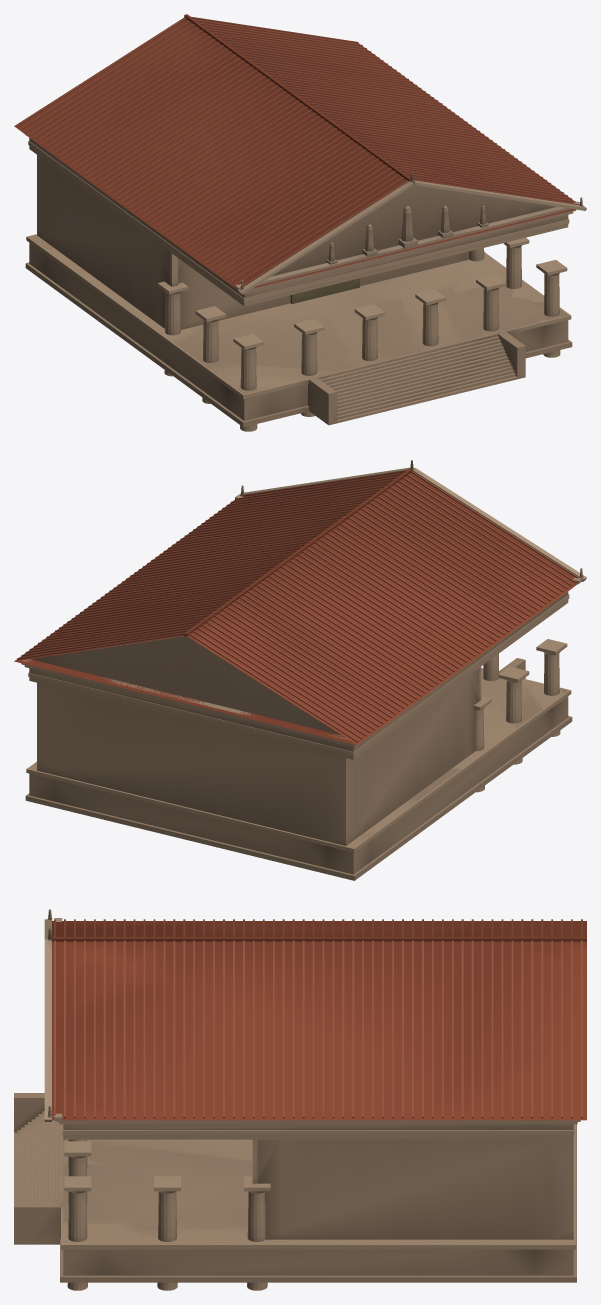
The model's file is temple-of-jupiter-archaic.glb.
3 views of the same model, one above another, from view 1: azimuth 30°, elevation 25°; view 2: azimuth 150°, elevation 25°; view 3: azimuth 270°, elevation 25° (orthographic). The views are drawn at different scales.
Parts seen in each view (by area): view 1: p2_roof, p0_podium, p1_columns; view 2: p2_roof, p1_columns, p0_podium; view 3: p2_roof, p0_podium, p1_columns.
Boxes of the visible parts, x1,y1,x2,y2 form: p2_roof: (14, 14, 586, 306); p0_podium: (25, 234, 572, 427); p1_columns: (37, 155, 567, 431); p2_roof: (14, 460, 586, 759); p1_columns: (37, 639, 567, 845); p0_podium: (25, 658, 572, 880); p2_roof: (44, 909, 586, 1139); p0_podium: (14, 1093, 576, 1282); p1_columns: (64, 1139, 573, 1290).
Size of the model in its own units: 57.56 by 36.25 by 69.62.
